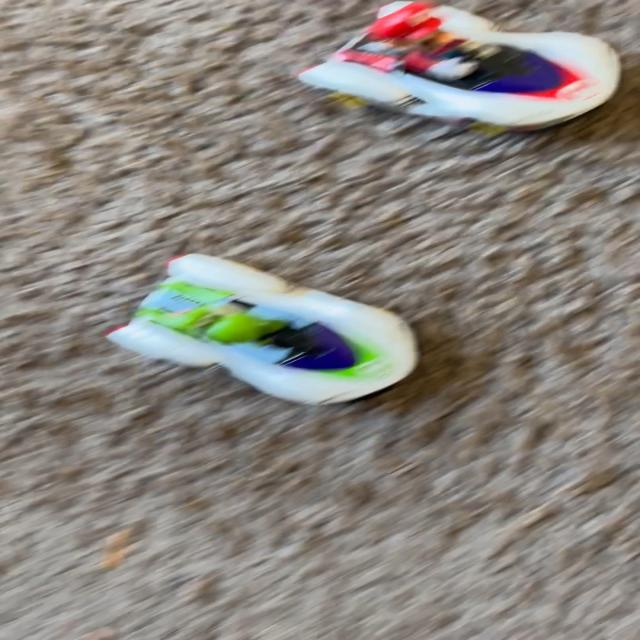mario: (284, 0, 640, 148)
yoshi: (91, 266, 446, 424)
